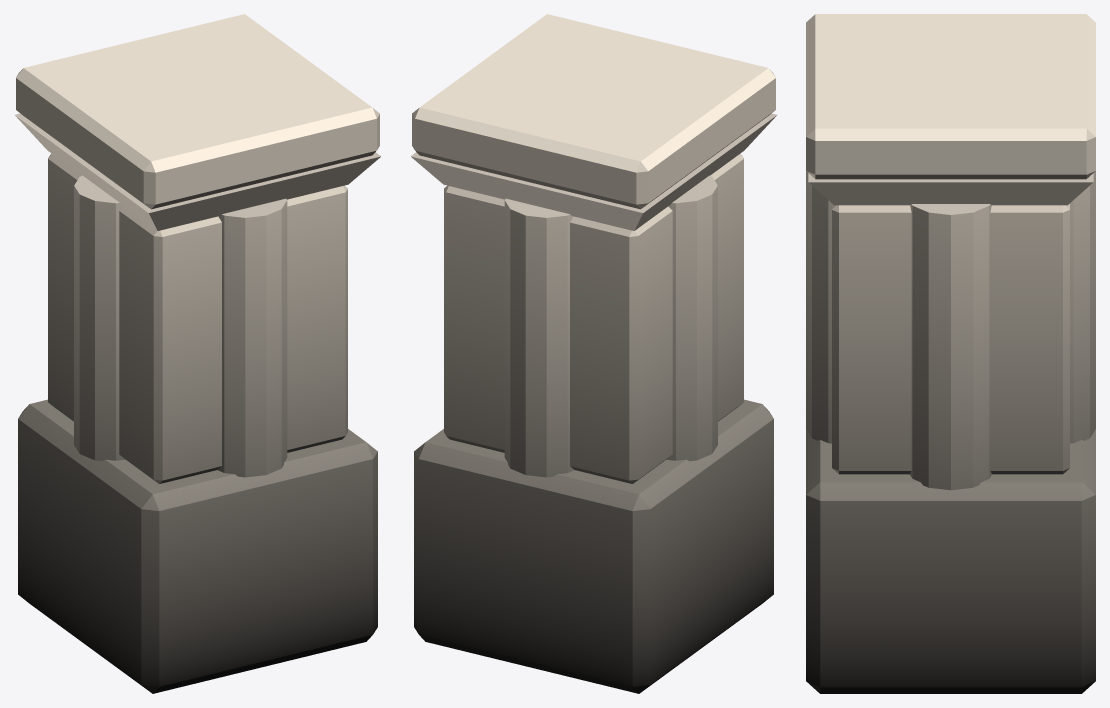
The model's file is SM_VKI_Post_Ashlar_Corner_Cut.fbx.
3 renders of one model, left to right at view 1: azimuth 30°, elevation 25°; view 2: azimuth 150°, elevation 25°; view 3: azimuth 270°, elevation 25°, orthographic. The views are drawn at different scales.
Parts seen in each view (by area): view 1: SM_VKI_Post_Ashlar_Corner_Cut.001; view 2: SM_VKI_Post_Ashlar_Corner_Cut.001; view 3: SM_VKI_Post_Ashlar_Corner_Cut.001.
Boxes of the visible parts, x1=… form: SM_VKI_Post_Ashlar_Corner_Cut.001: x1=15, y1=14, x2=380, y2=693; SM_VKI_Post_Ashlar_Corner_Cut.001: x1=411, y1=14, x2=776, y2=693; SM_VKI_Post_Ashlar_Corner_Cut.001: x1=806, y1=14, x2=1095, y2=693.
Bounding box in the file's own units: 0.62 × 1.34 × 0.62.
